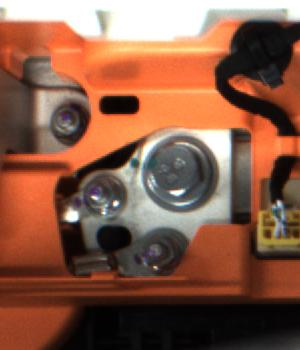nut_b: (140, 133, 238, 214)
